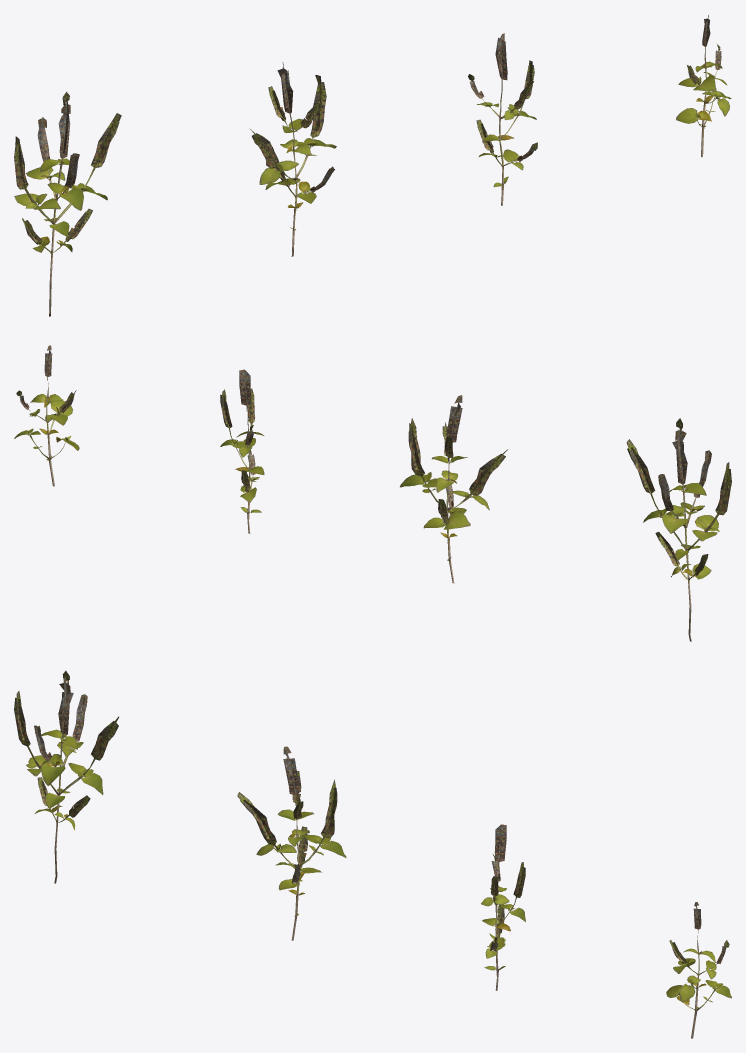
File: shrub_03.glb
The picture shows the model from 3 angles, top to bottom: view 1: azimuth 30°, elevation 25°; view 2: azimuth 150°, elevation 25°; view 3: azimuth 330°, elevation 25°; orthographic projection. The views are drawn at different scales.
Visible parts, largest first — view 1: shrub_03_a, shrub_03_b, shrub_03_c, shrub_03_d; view 2: shrub_03_a, shrub_03_b, shrub_03_c, shrub_03_d; view 3: shrub_03_a, shrub_03_b, shrub_03_c, shrub_03_d.
Part boxes in pixels (box(x1,y1,x2,y2)): shrub_03_a: box(14, 91, 121, 316); shrub_03_b: box(249, 62, 336, 256); shrub_03_c: box(468, 33, 537, 205); shrub_03_d: box(676, 15, 731, 157); shrub_03_a: box(626, 418, 731, 641); shrub_03_b: box(400, 395, 507, 583); shrub_03_c: box(220, 369, 264, 533); shrub_03_d: box(14, 345, 79, 486); shrub_03_a: box(14, 670, 118, 883); shrub_03_b: box(237, 746, 346, 940); shrub_03_c: box(481, 824, 525, 990); shrub_03_d: box(666, 902, 731, 1038).
Size of the model in its own units: 1.37 by 0.4028 by 0.1512.
1 material, 1 textured.
